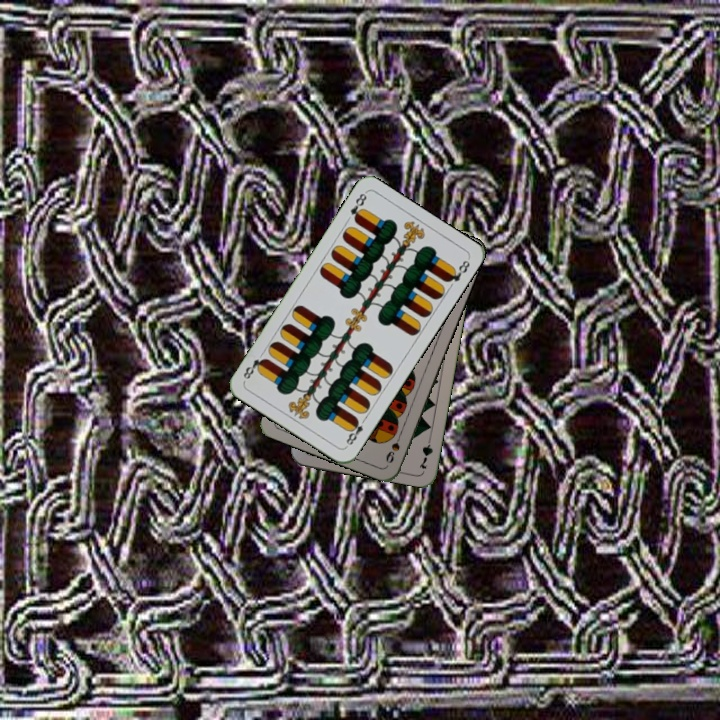E8: (342, 413, 369, 450), (346, 189, 369, 225)
G7: (415, 431, 435, 472)
S9: (382, 428, 405, 466)
